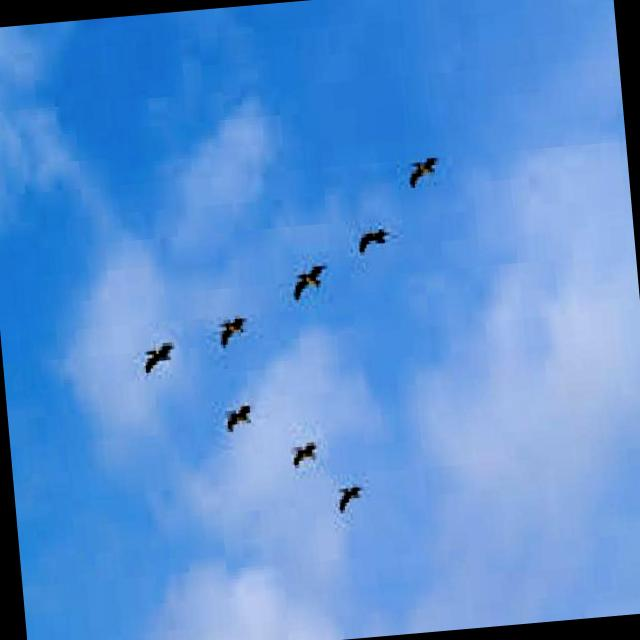bird: (342, 206, 401, 262), (211, 298, 258, 360), (282, 248, 334, 304), (400, 143, 450, 196), (215, 388, 268, 436), (138, 333, 178, 385), (285, 424, 328, 472), (332, 468, 369, 518)
